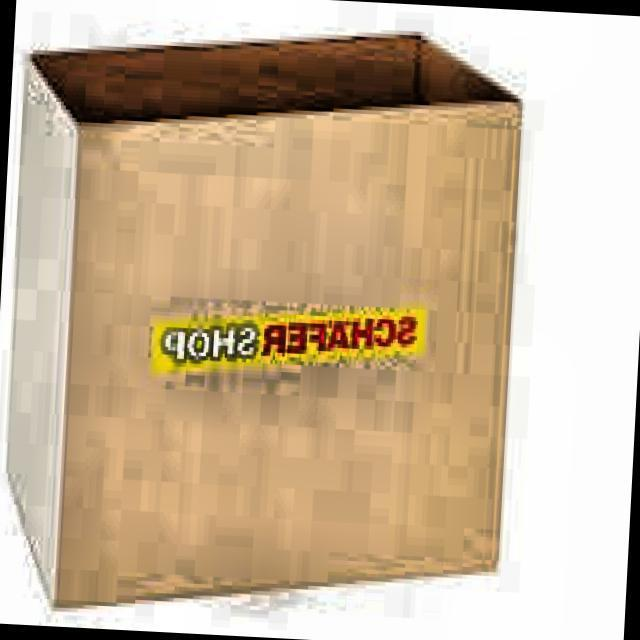cardboard: (0, 7, 528, 630)
